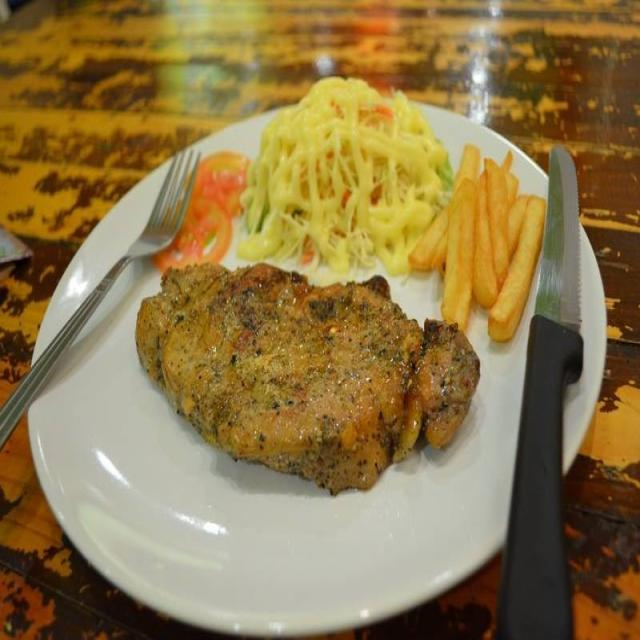carb: (410, 149, 547, 337)
meat: (136, 261, 482, 491)
vegetable: (244, 80, 457, 267)
